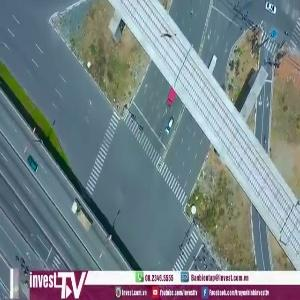drone: (155, 21, 184, 50)
